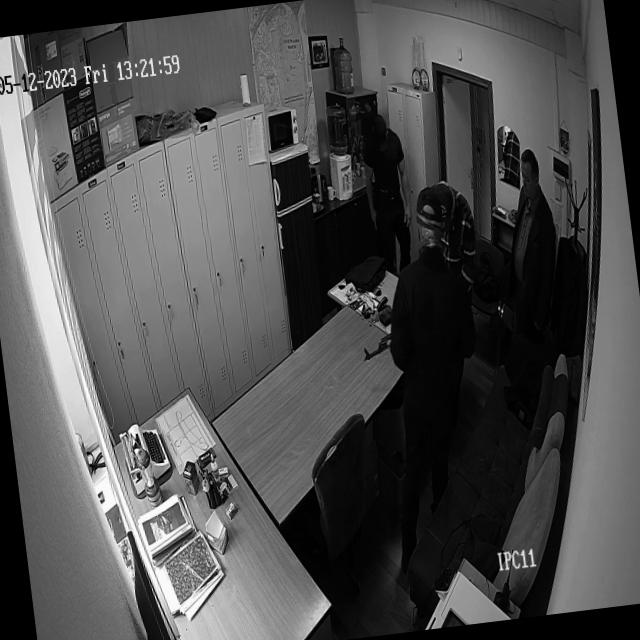gun: (356, 312, 398, 369)
person: (486, 128, 578, 432)
person with a gun: (346, 181, 501, 561)
